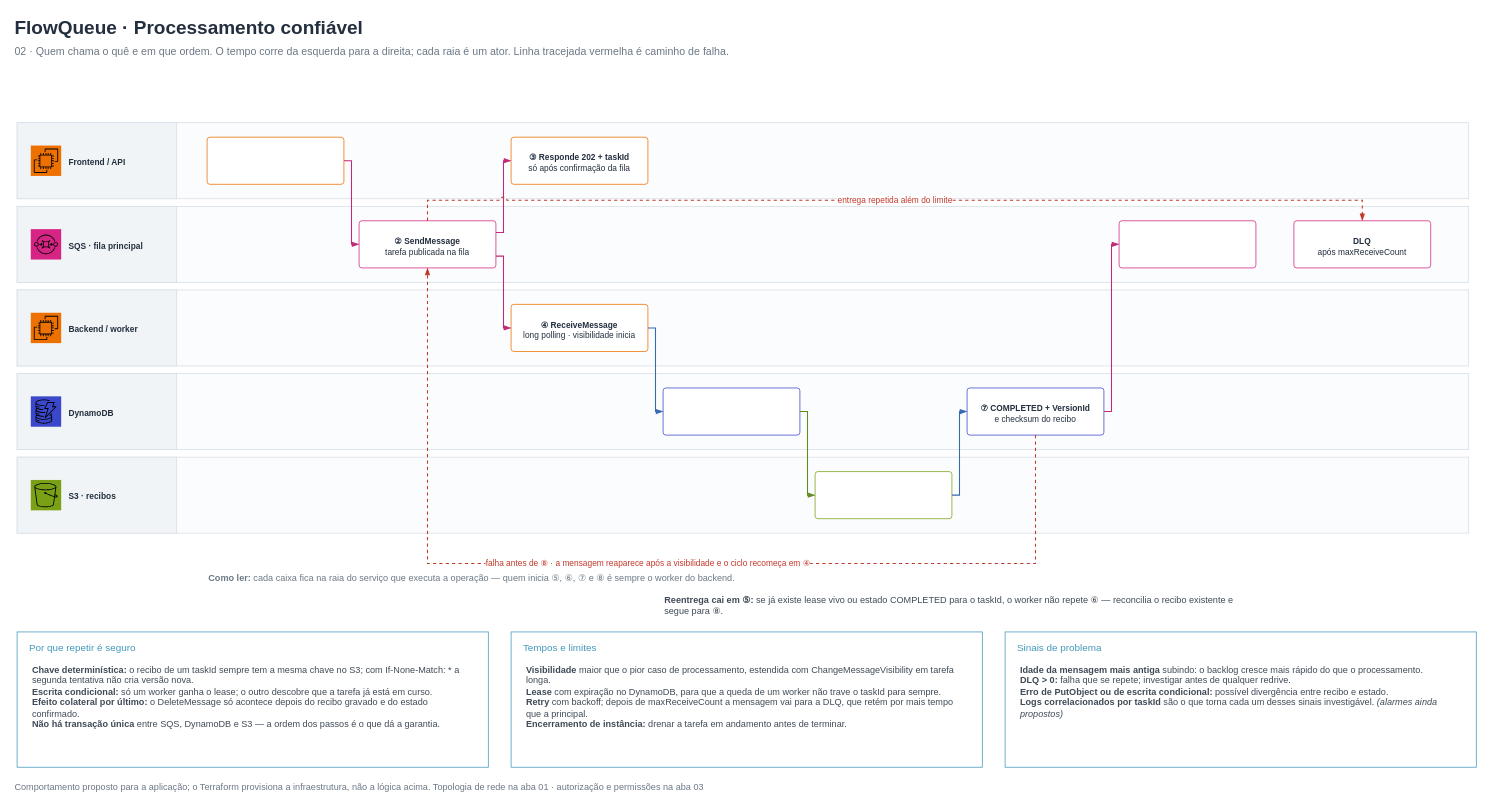
The diagram is 1493 pixels wide and 809 high, and some of its shapes have lost their labels. The shapes that lost their labels are listed below. From the top down, each one's centre as x and y in pixels, then its label:
(x=275, y=160): ① Valida a requisição gera taskId e proprietário
(x=1187, y=244): ⑧ DeleteMessage último passo, nunca antes
(x=731, y=411): ⑤ Lease + PROCESSING escrita condicional por taskId
(x=883, y=495): ⑥ PutObject do recibo chave estável · If-None-Match: *
